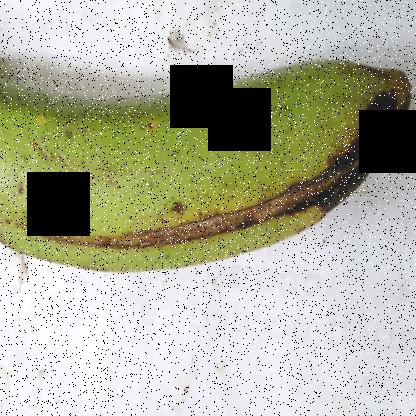rotten: (262, 64, 410, 228), (34, 177, 281, 262)
unripe: (0, 44, 303, 290)
